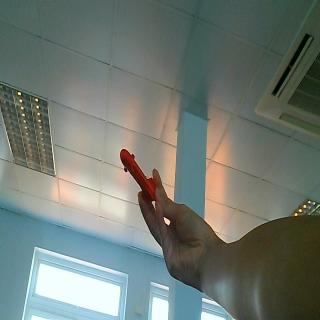Rocket: (118, 145, 156, 200)
